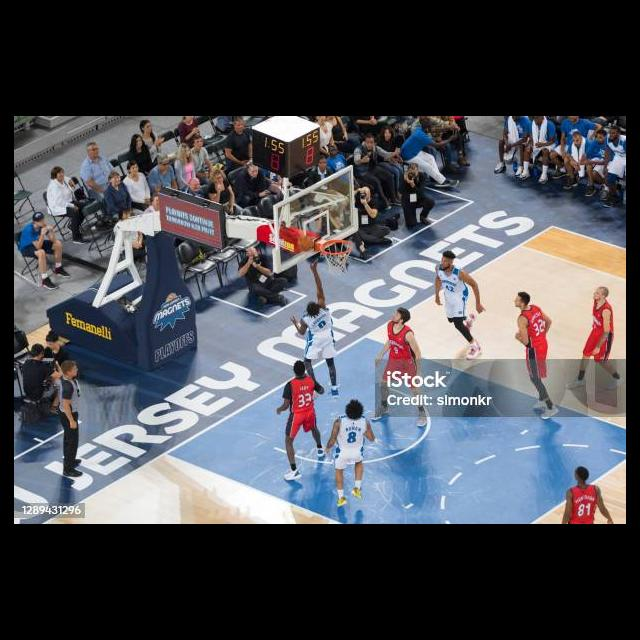basketball: (298, 235, 312, 252)
hoop: (319, 238, 351, 269)
